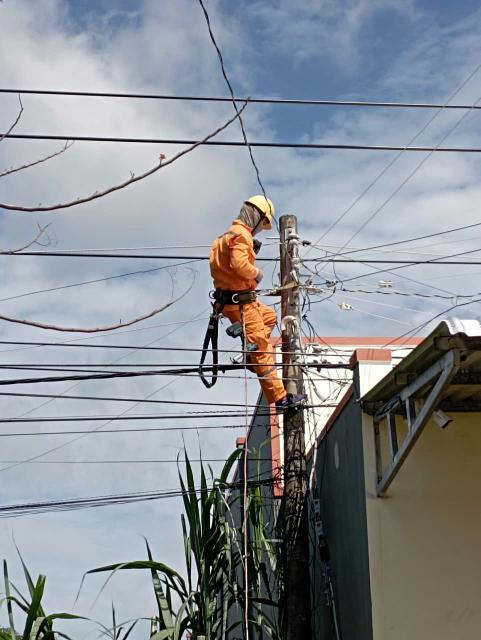harness: (199, 277, 264, 308)
helmet: (229, 184, 282, 237)
shoes: (269, 384, 308, 413)
